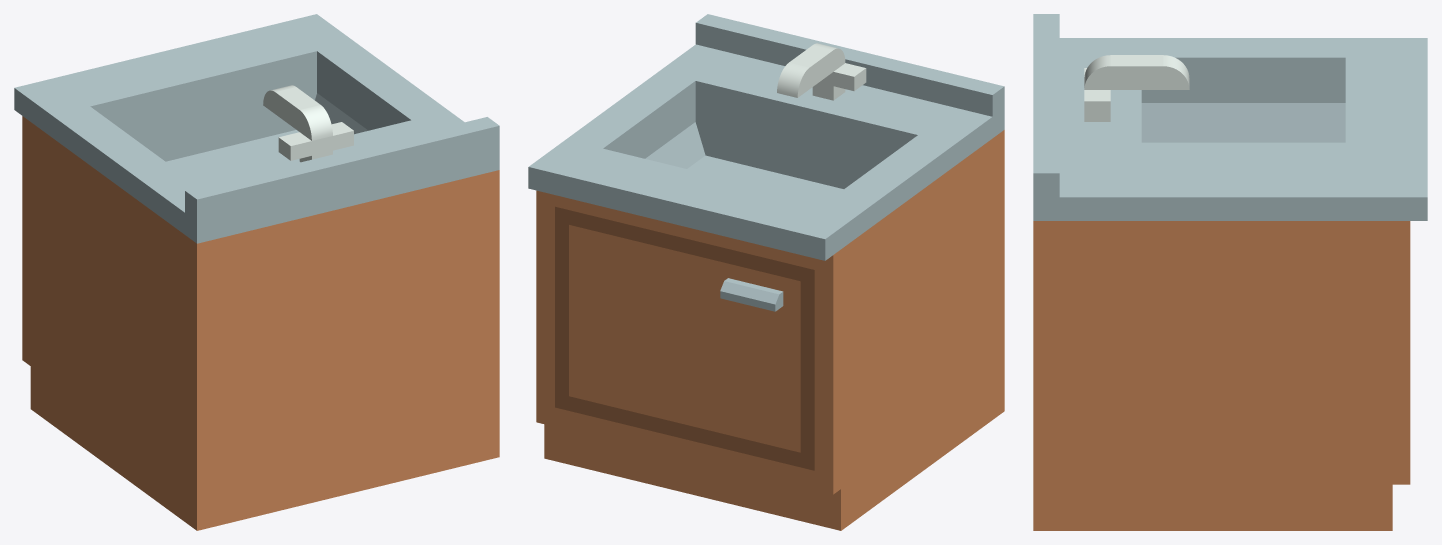
The model's file is kitchenSink.fbx.
3 views of the same model, side by side, from view 1: azimuth 30°, elevation 25°; view 2: azimuth 150°, elevation 25°; view 3: azimuth 270°, elevation 25° (orthographic). The views are drawn at different scales.
Parts seen in each view (by area): view 1: kitchenSink; view 2: kitchenSink, door; view 3: kitchenSink.
Part boxes in pixels (x1=…): kitchenSink: x1=14, y1=14, x2=499, y2=530; kitchenSink: x1=528, y1=14, x2=1004, y2=530; door: x1=555, y1=206, x2=814, y2=470; kitchenSink: x1=1033, y1=14, x2=1427, y2=530.
Size of the model in its own units: 4.3 by 4.9 by 4.5.
